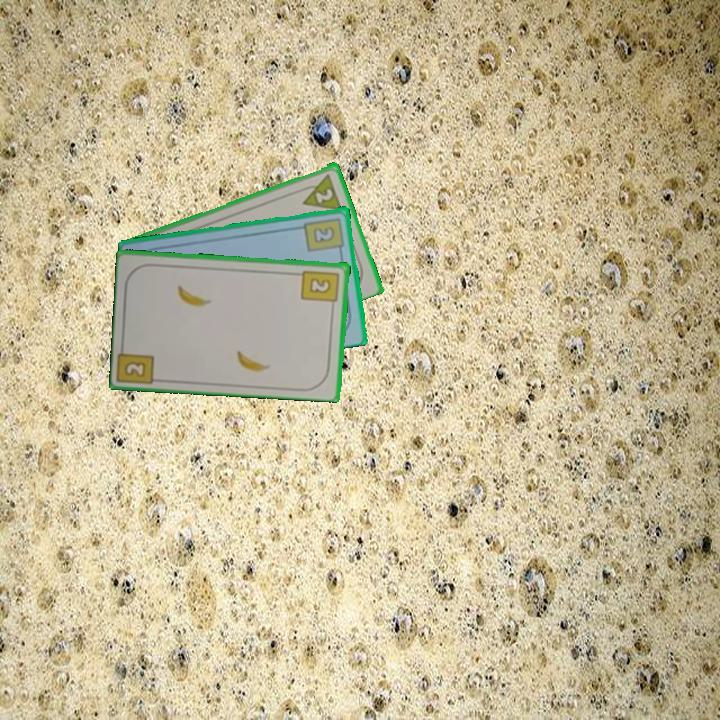2b: (301, 214, 347, 256), (299, 267, 342, 310), (121, 358, 149, 380)
2p: (295, 170, 345, 213)
